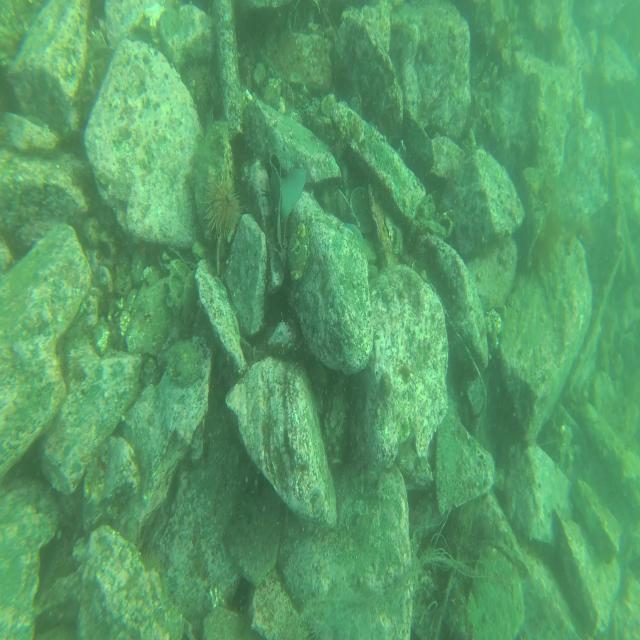echinus: (202, 169, 241, 242), (181, 58, 208, 120)
scallop: (337, 187, 375, 234)
starfish: (342, 219, 367, 247)
